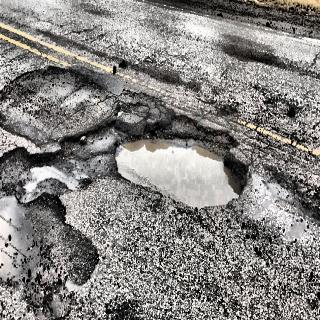pothole: (111, 114, 249, 212), (0, 113, 122, 207)
